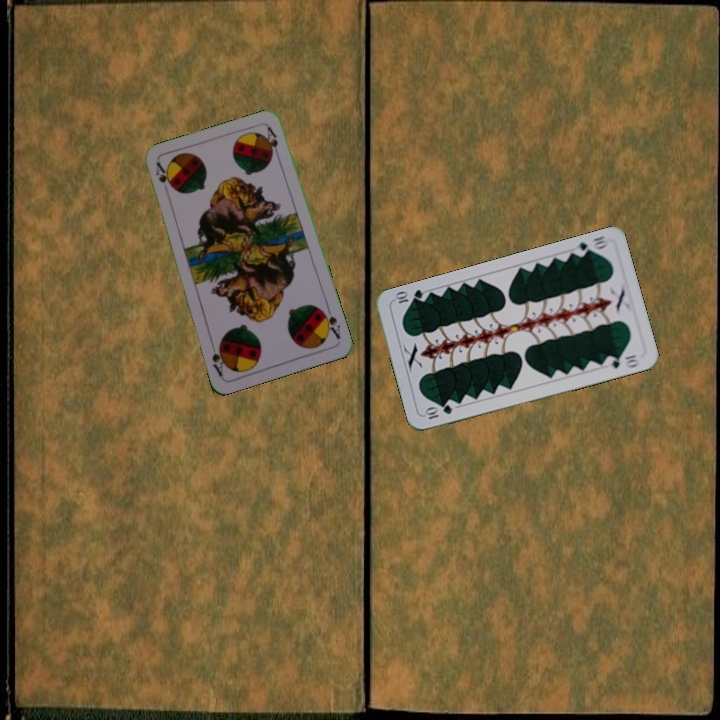G10: (570, 232, 611, 259), (421, 401, 455, 422)
SA: (317, 303, 343, 341), (151, 158, 172, 186)
